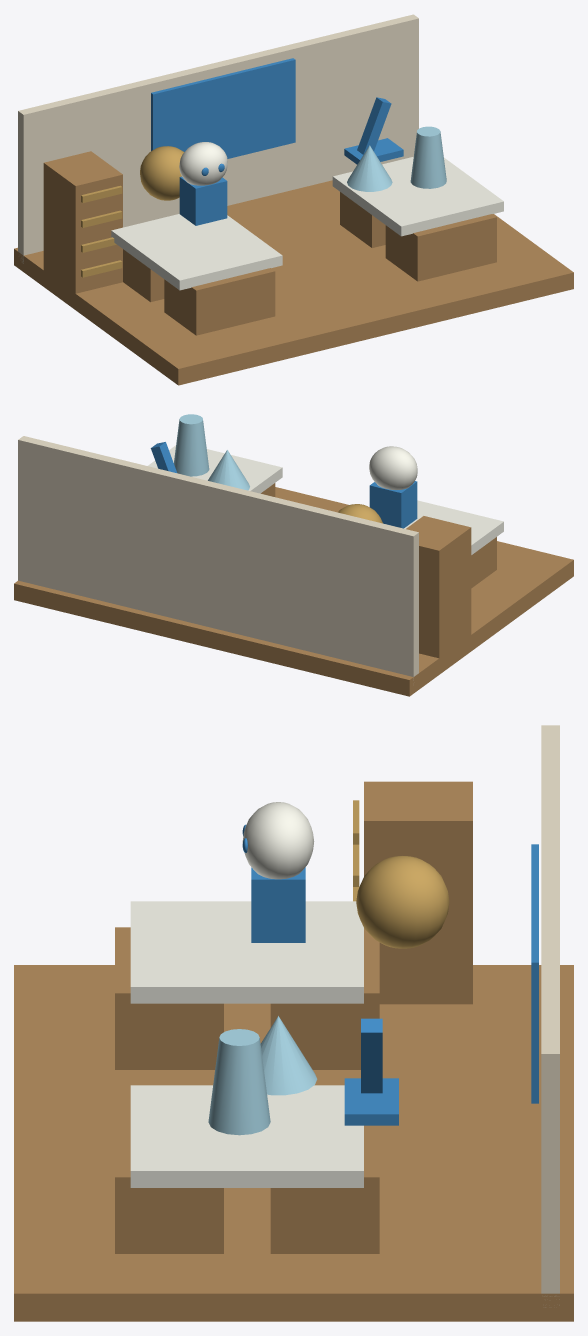
File: learning.glb
3 renders of one model, top to bottom at view 1: azimuth 30°, elevation 25°; view 2: azimuth 150°, elevation 25°; view 3: azimuth 270°, elevation 25°, orthographic. The views are drawn at different scales.
Size of the model in its own units: 5 by 1.93 by 3.6.
